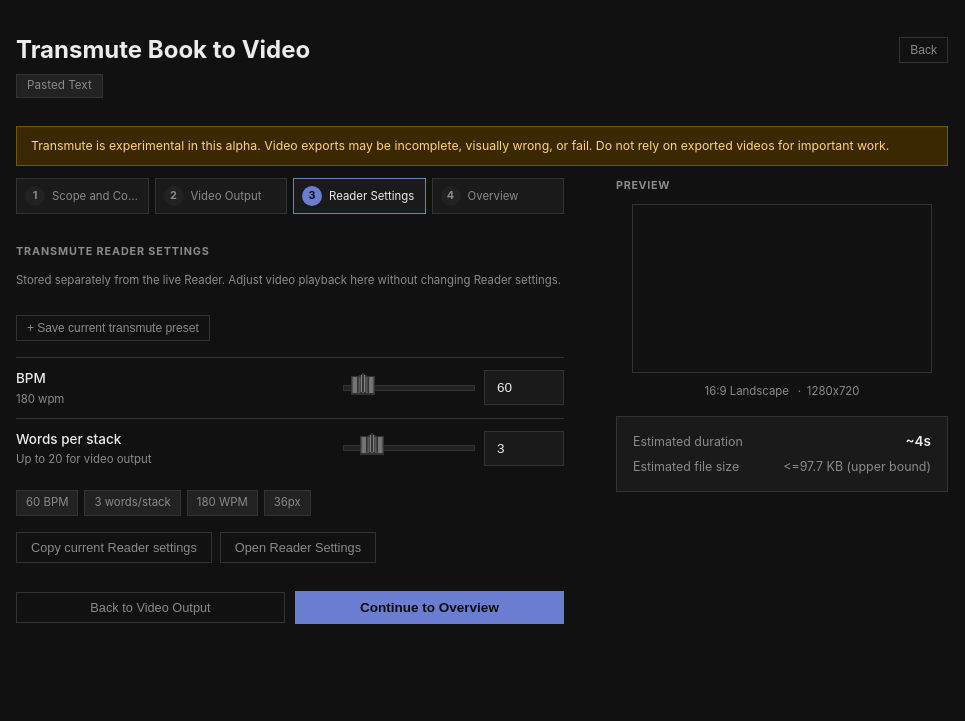
Test: TransmuteView wizard navigation (characterization) › navigates freely between steps via the stepper and shows the matching step body
Click the button with class "transmute-stepper-item" showing "1 Scope and Content". click: click(82, 196)
box: [16,178,148,214]
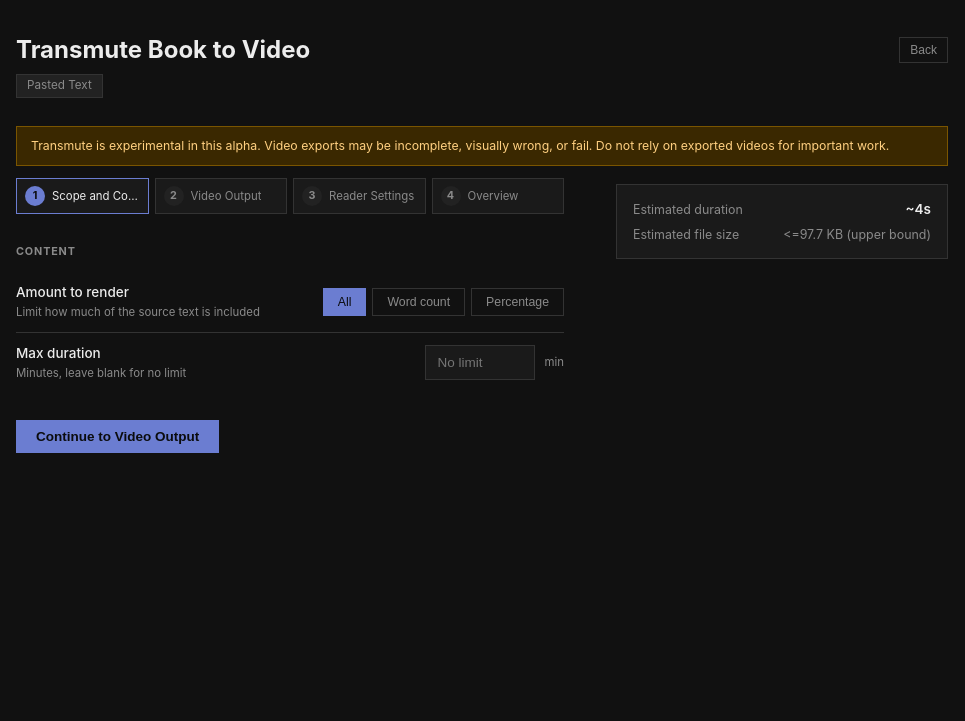
Expected: the text "Scope and Content" is shown, [52,189,140,203]
Expected: the button "Continue to Video Output" is shown, [16,420,219,453]
Click the button with class "transmute-stepper-item" showing "2 Video Output". click: click(221, 196)
box: [154,178,287,214]
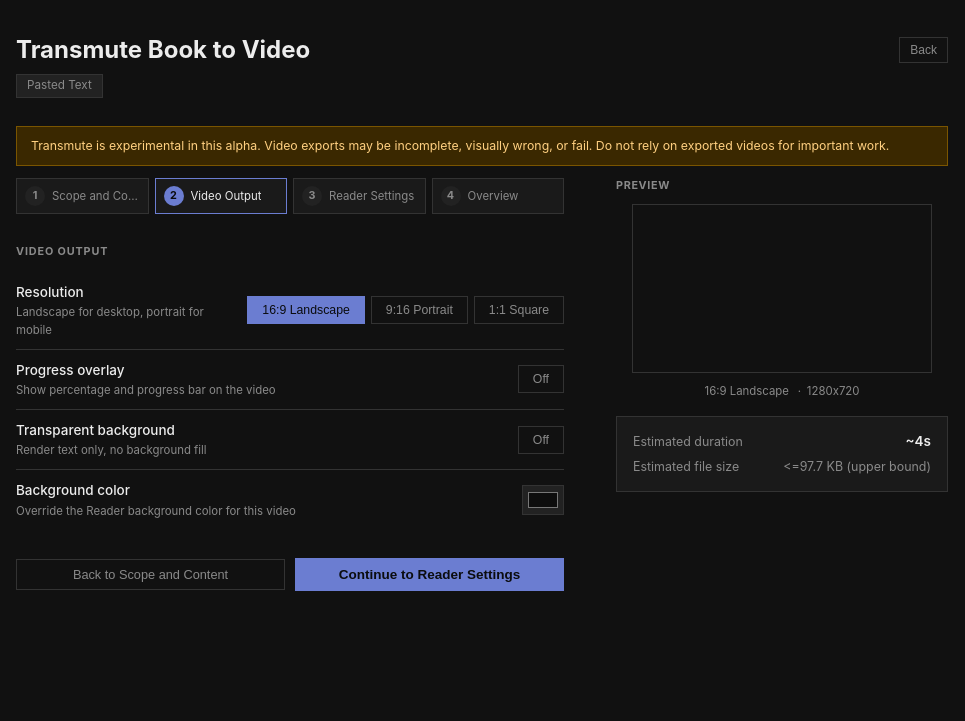
Expected: the text "Video Output" is shown, [190,189,261,203]
Expected: the button "Continue to Reader Settings" is shown, [295,558,564,591]
Click the button with class "transmute-stepper-item" showing "4 Overview". click: click(498, 196)
box: [432,178,564,214]
(page scrolled)
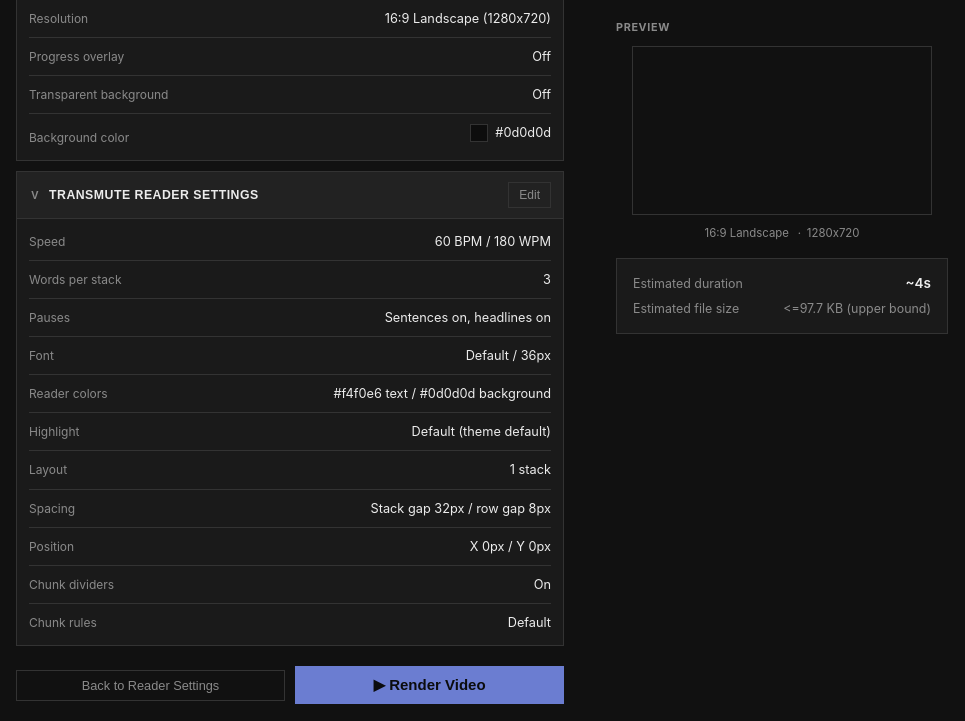
Expected: the button "▶ Render Video" is shown, [295,666,564,704]
